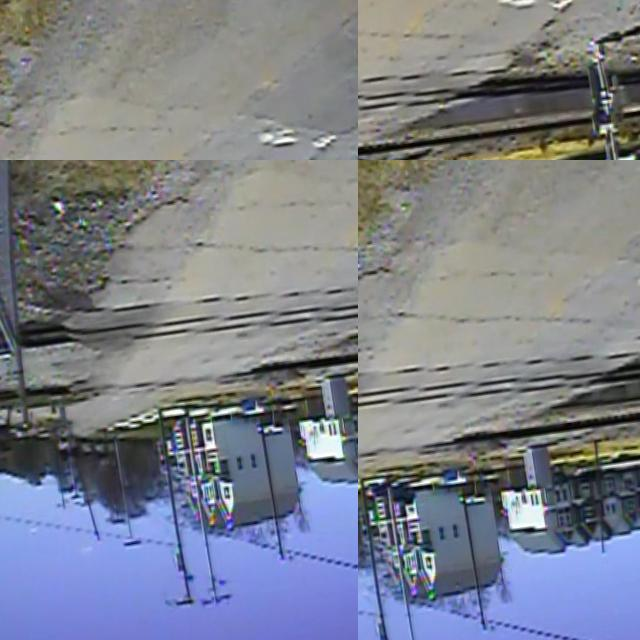barrier: (73, 467, 106, 551), (358, 531, 374, 617)
car: (364, 476, 423, 520)
rails: (0, 248, 358, 395), (0, 292, 358, 438), (358, 304, 640, 460), (358, 377, 640, 517), (358, 27, 640, 160), (358, 92, 640, 160)
traffic-signal: (584, 37, 640, 160), (47, 396, 89, 471), (358, 454, 380, 536)
